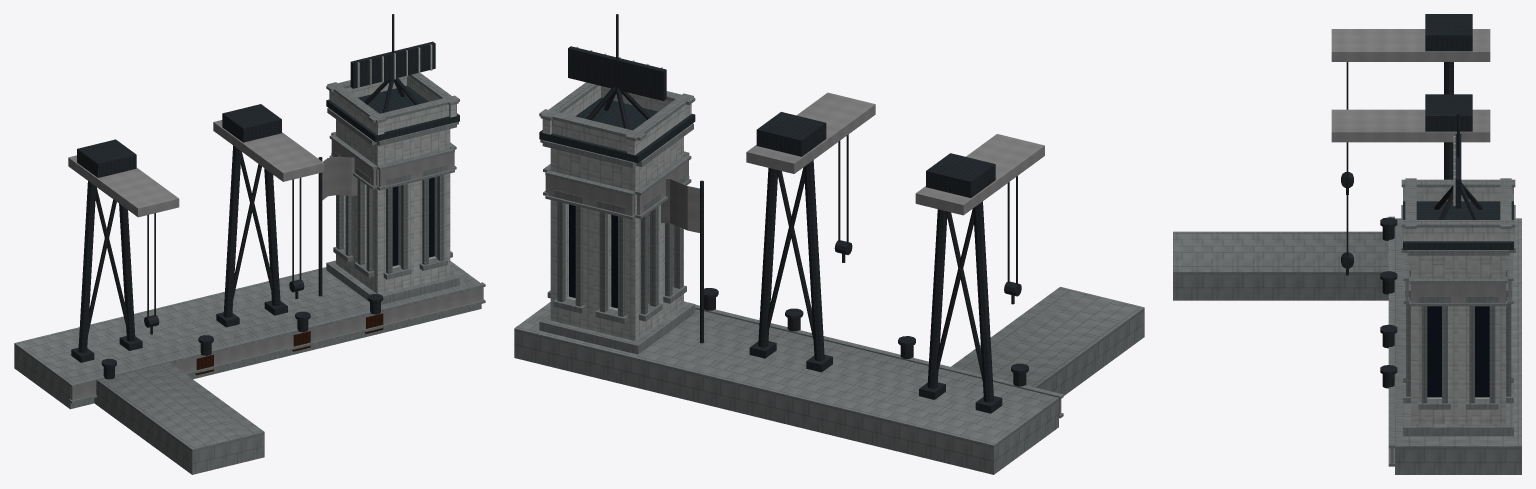
Rendered from carrier_dock.glb.
3 views of the same model, side by side, from view 1: azimuth 30°, elevation 25°; view 2: azimuth 150°, elevation 25°; view 3: azimuth 270°, elevation 25° (orthographic). The views are drawn at different scales.
Parts seen in each view (by area): view 1: LOD0; view 2: LOD0; view 3: LOD0.
Boxes of the visible parts, left/top/right/bottom form: LOD0: left=14, top=14, right=485, bottom=474; LOD0: left=514, top=14, right=1144, bottom=474; LOD0: left=1173, top=14, right=1521, bottom=474.
Size of what is drawn, in the model's own units: 1.71 by 1.14 by 1.1.
Materials: 2 (2 with a texture image).
